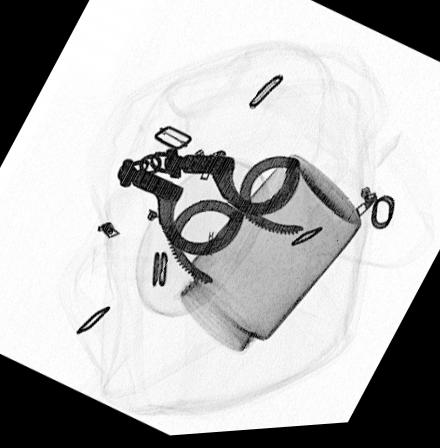HandCuffs: (114, 148, 308, 291)
